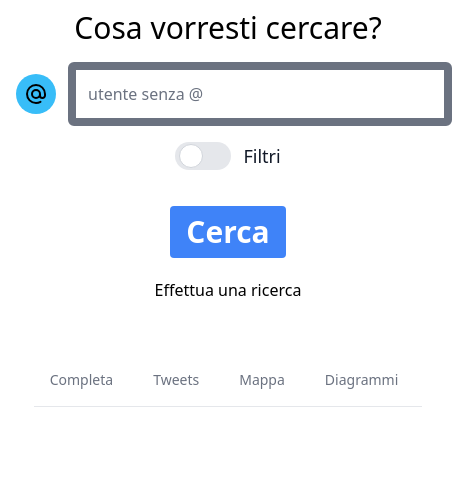
Test: SearchForm component › should allow username search of tweets
The image size is (469, 496).
Step 1. Type "giorgiameloni" into the field with placeholder "utente senza @" → [260, 94], box [68, 62, 452, 126]
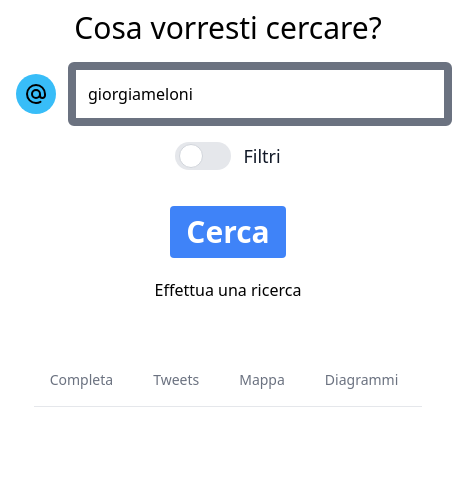
Step 2. Click the button "Cerca" → [228, 232], box [170, 206, 286, 258]
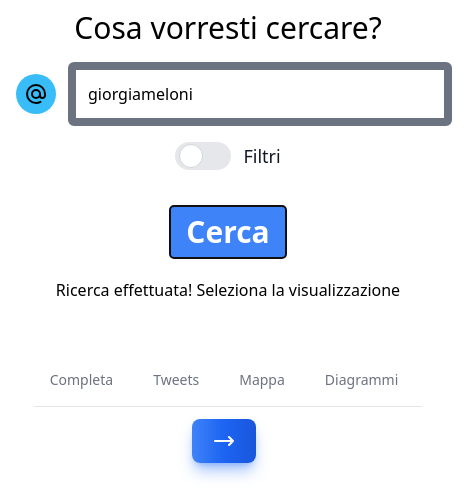
Check: the text "Ricerca effettuata! Seleziona la visualizzazione" is shown, box [56, 279, 400, 301]
